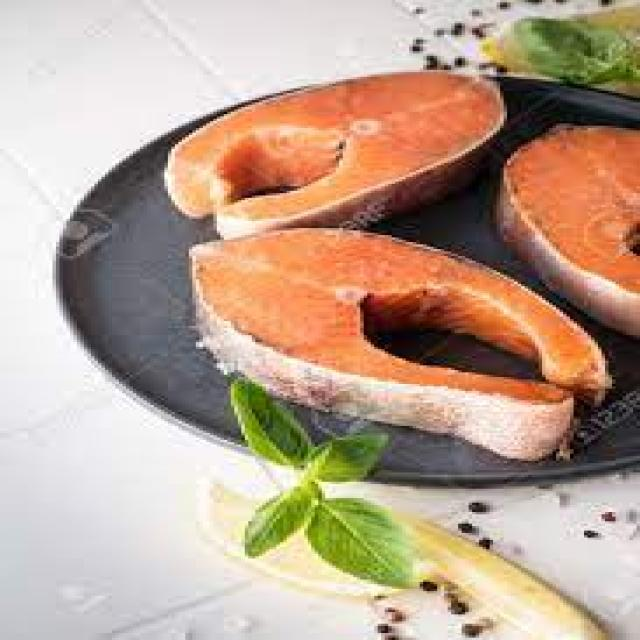Fish: (174, 239, 614, 462), (152, 67, 562, 256), (492, 101, 640, 332)
